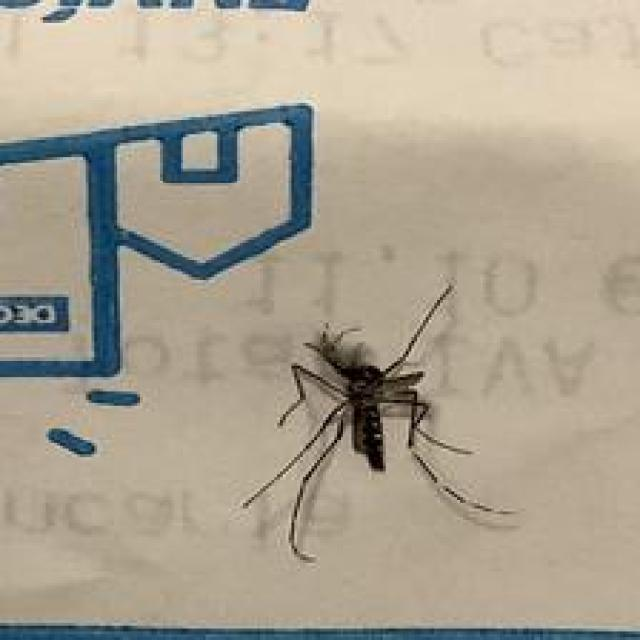Aedes albopictus: (239, 280, 524, 563)
